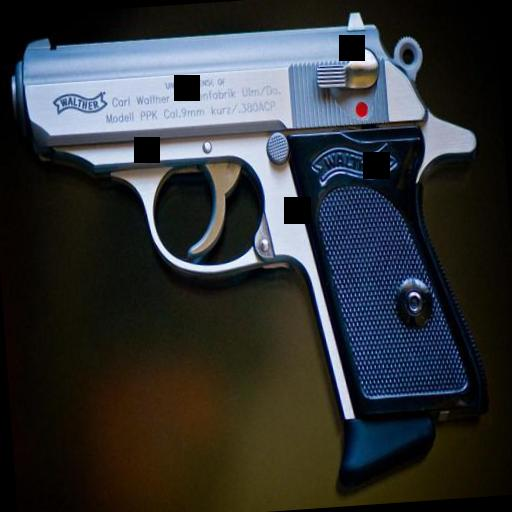Handgun: (3, 8, 503, 509)
